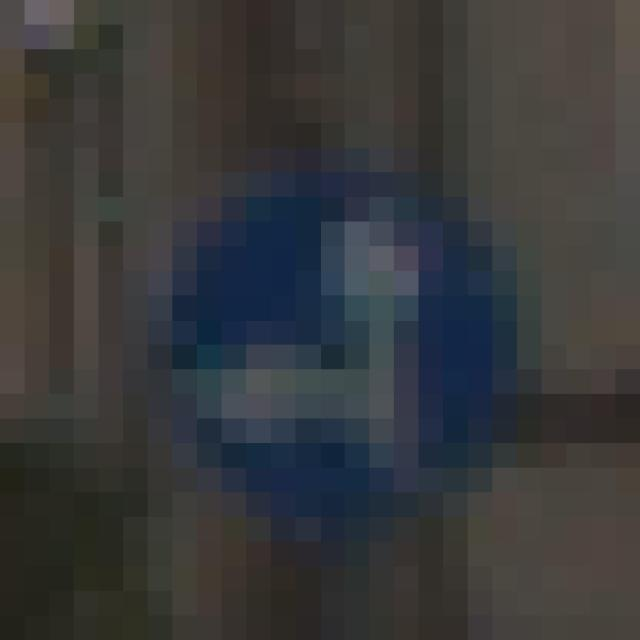Go straight or turn left: (123, 148, 542, 517)
